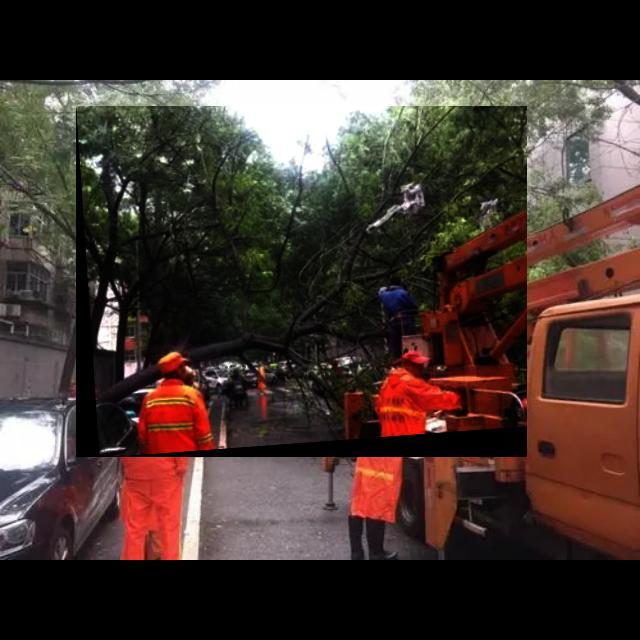fallen_tree: (76, 106, 528, 458)
